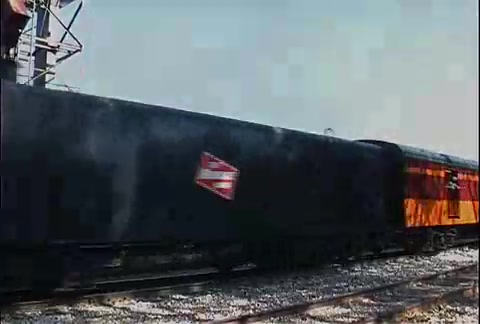train: (1, 1, 480, 300)
